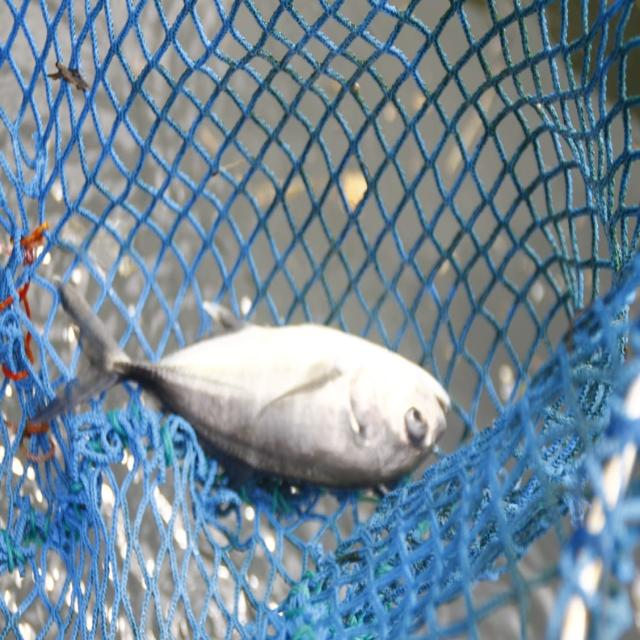ikan: (46, 247, 474, 503)
